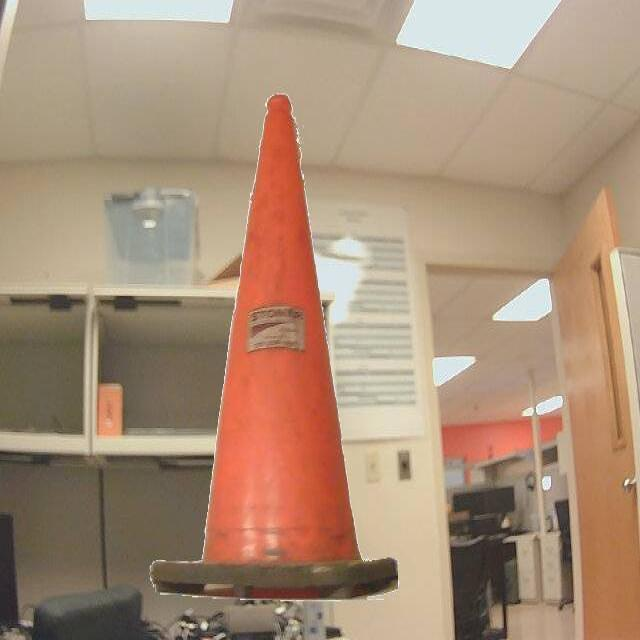traffic cone: (139, 81, 411, 612)
